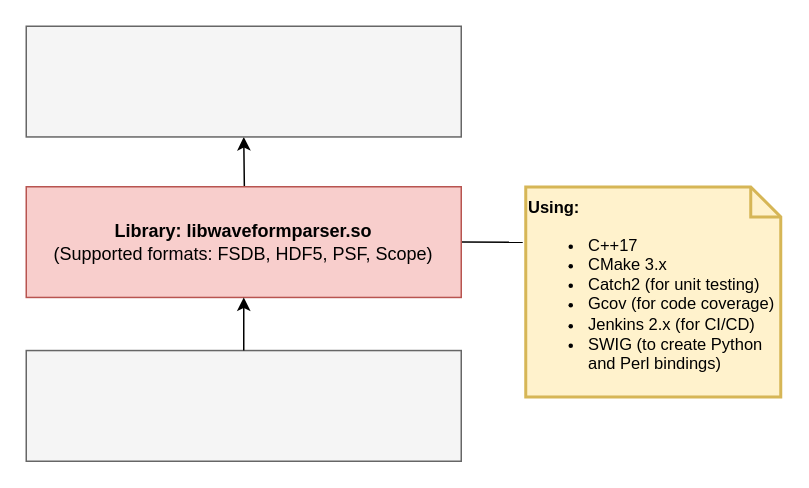
Image size: 809x488. Some labels were removed from this diagram. The centre of each missing label's shape, as x and y in pixels:
EDA Tools for Simulations (Cadence, Synopsis, ...): pixel 243 405
Waveform Viewers: pixel 243 81
